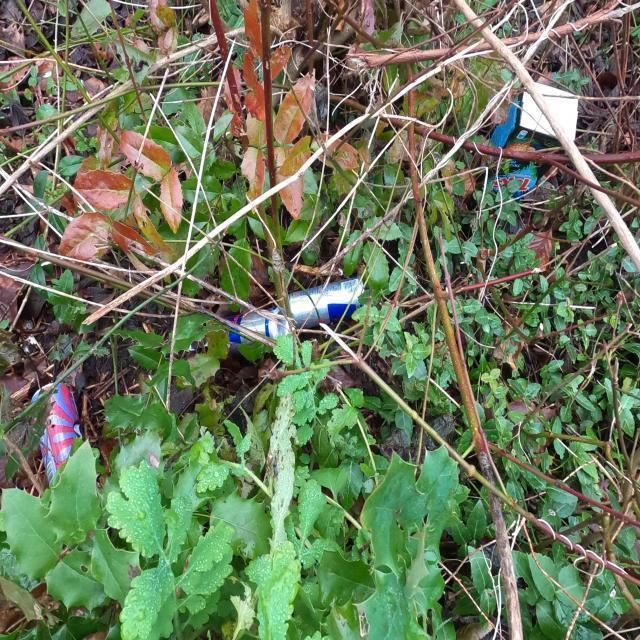Can-Metal: (30, 381, 85, 486), (286, 276, 366, 330), (204, 306, 290, 347)
